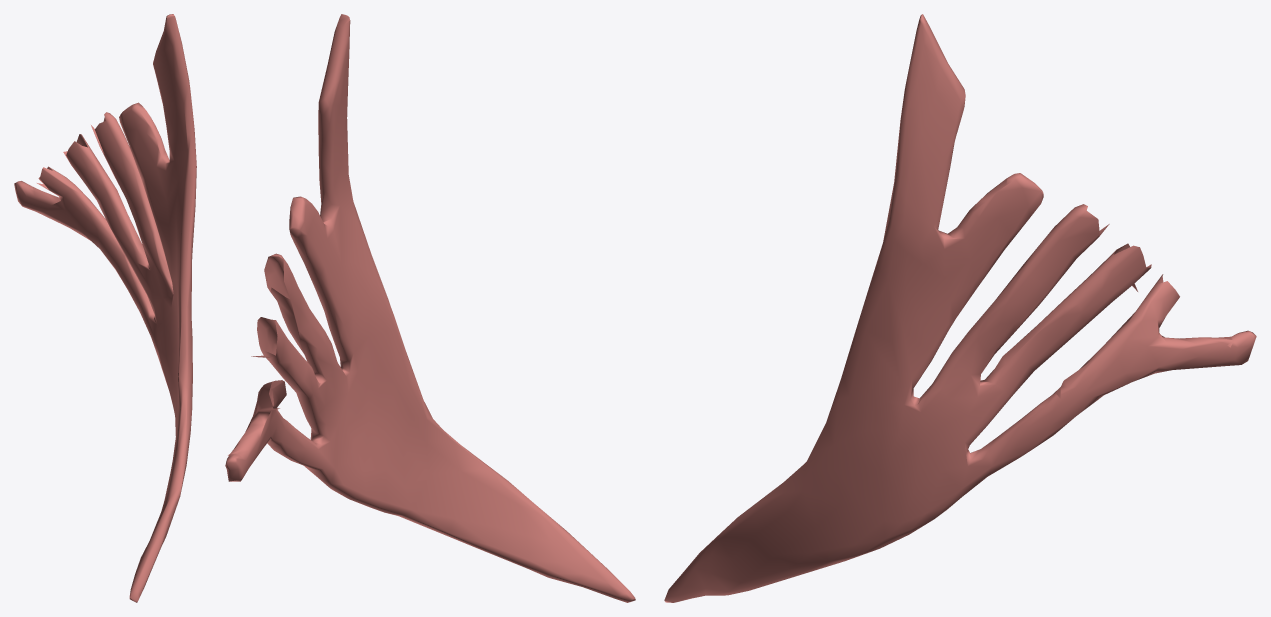
Rendered from fma46598_mm1193.glb.
The picture shows the model from 3 angles, left to right: view 1: azimuth 30°, elevation 25°; view 2: azimuth 150°, elevation 25°; view 3: azimuth 270°, elevation 25°; orthographic projection. The views are drawn at different scales.
Visible parts, largest first — view 1: FMA46598_MM1193; view 2: FMA46598_MM1193; view 3: FMA46598_MM1193.
Part boxes in pixels (bbox=[...]): FMA46598_MM1193: bbox=[14, 14, 196, 602]; FMA46598_MM1193: bbox=[225, 14, 635, 602]; FMA46598_MM1193: bbox=[664, 14, 1256, 602].
Bounding box in the file's own units: 0.00757 × 0.0233 × 0.0186.
